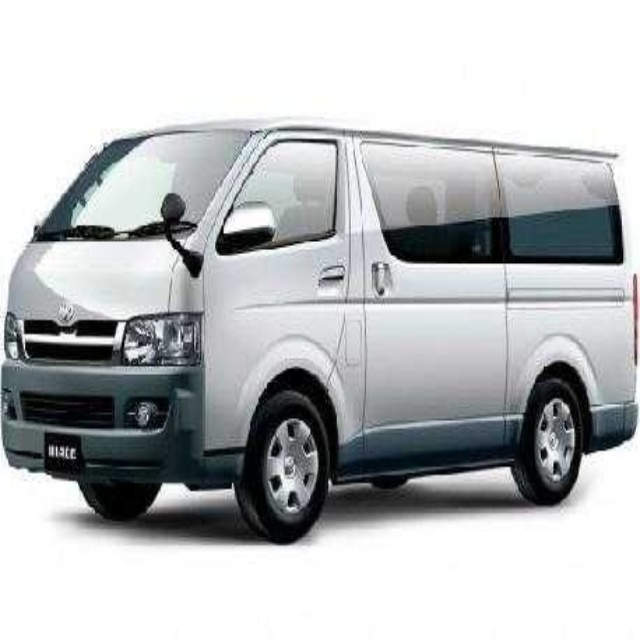Van: (1, 117, 640, 545)
